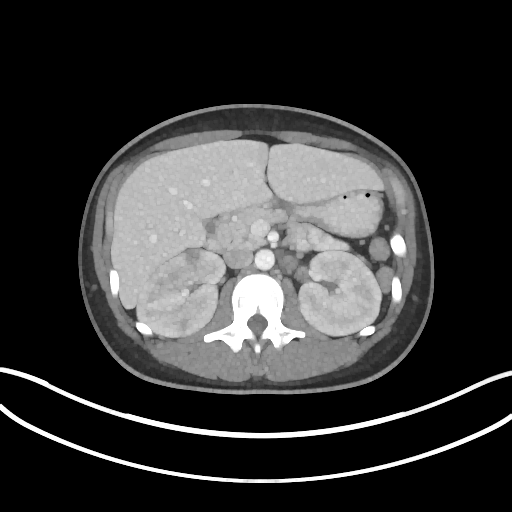Lesion: (183, 244, 204, 266)
